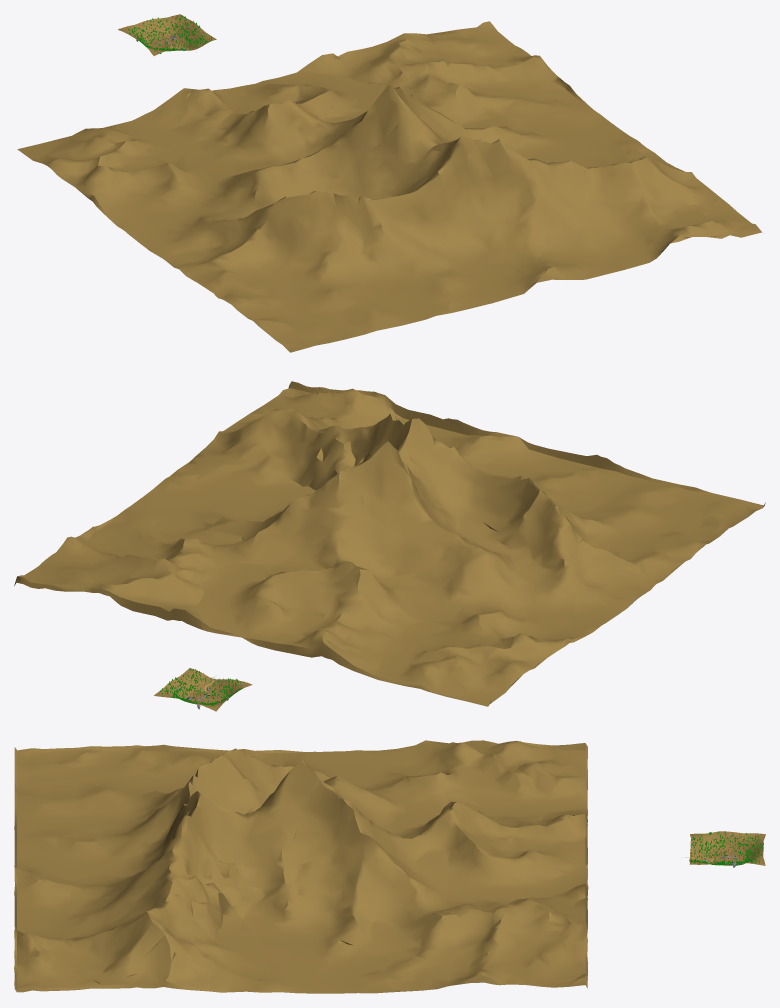
The model's file is map_pit.glb.
The picture shows the model from 3 angles, top to bottom: view 1: azimuth 30°, elevation 25°; view 2: azimuth 150°, elevation 25°; view 3: azimuth 270°, elevation 25°; orthographic projection. The views are drawn at different scales.
Visible parts, largest first — view 1: model_0, Plane; view 2: model_0, Plane; view 3: model_0, Plane.
Part boxes in pixels (bbox=[...]): model_0: bbox=[17, 21, 761, 352]; Plane: bbox=[118, 14, 216, 55]; model_0: bbox=[14, 381, 765, 706]; Plane: bbox=[154, 668, 252, 711]; model_0: bbox=[14, 740, 588, 993]; Plane: bbox=[689, 831, 765, 865].
Size of the model in its own units: 303 by 66.43 by 396.
136 materials, 7 textured.
